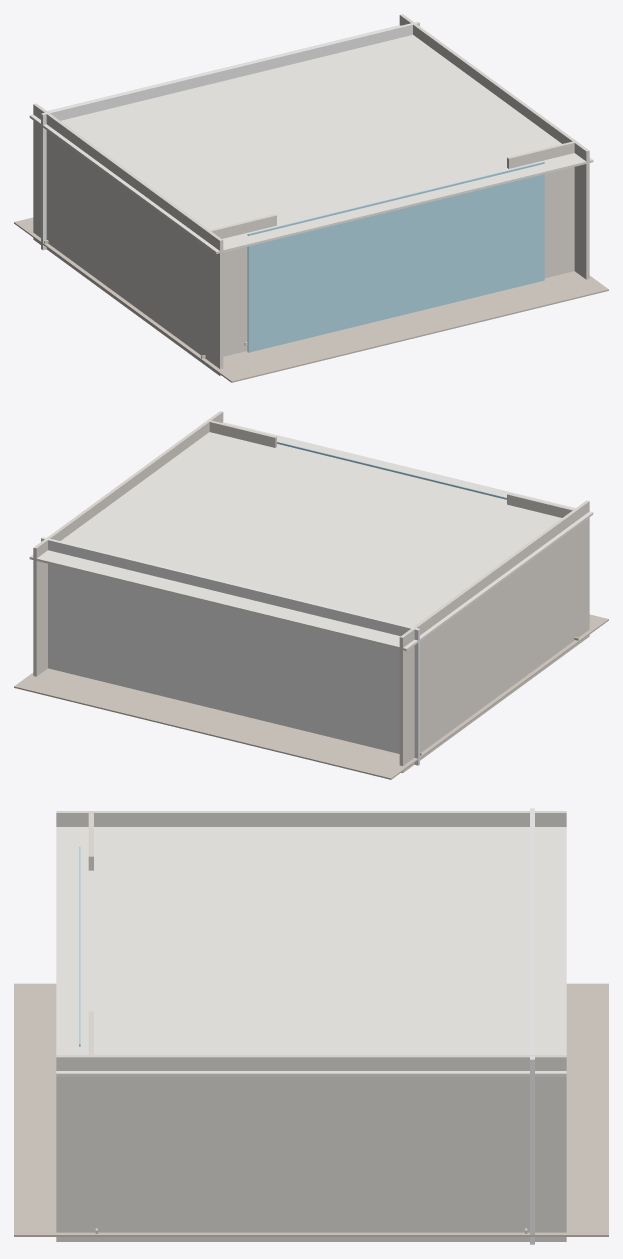
The model's file is meeting_room_shell-2.glb.
The picture shows the model from 3 angles, top to bottom: view 1: azimuth 30°, elevation 25°; view 2: azimuth 150°, elevation 25°; view 3: azimuth 270°, elevation 25°; orthographic projection. The views are drawn at different scales.
Parts seen in each view (by area): view 1: ceiling, window_sky, wall_west, floor, wall_north, wall_east, wall_south_e, wall_south_w; view 2: ceiling, wall_north, wall_west, floor, wall_east, wall_south_e, wall_south_w, window_sky; view 3: ceiling, wall_east, floor, wall_west, wall_north.
Boxes of the visible parts, x1,y1,x2,y2 form: ceiling: [29, 25, 593, 254]; window_sky: [247, 161, 544, 352]; wall_west: [33, 103, 223, 375]; floor: [14, 217, 608, 382]; wall_north: [41, 21, 419, 250]; wall_east: [399, 14, 589, 279]; wall_south_e: [507, 141, 575, 278]; wall_south_w: [210, 214, 276, 356]; ceiling: [29, 422, 593, 651]; wall_north: [41, 537, 419, 765]; wall_west: [399, 500, 589, 772]; floor: [14, 614, 608, 779]; wall_east: [33, 411, 223, 676]; wall_south_e: [209, 420, 276, 447]; wall_south_w: [507, 493, 575, 517]; window_sky: [277, 441, 506, 499]; ceiling: [56, 827, 566, 1076]; wall_east: [56, 1055, 566, 1241]; floor: [14, 983, 608, 1236]; wall_west: [56, 811, 566, 826]; wall_north: [530, 808, 534, 1244].
Bounding box in the file's own units: 14 × 4.8 × 14.
